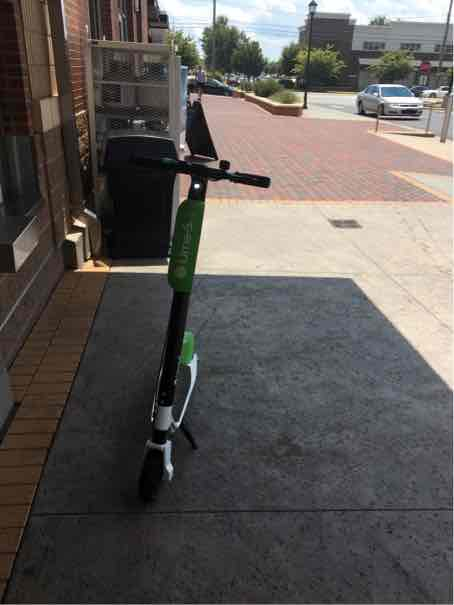scooter: (103, 155, 280, 519)
